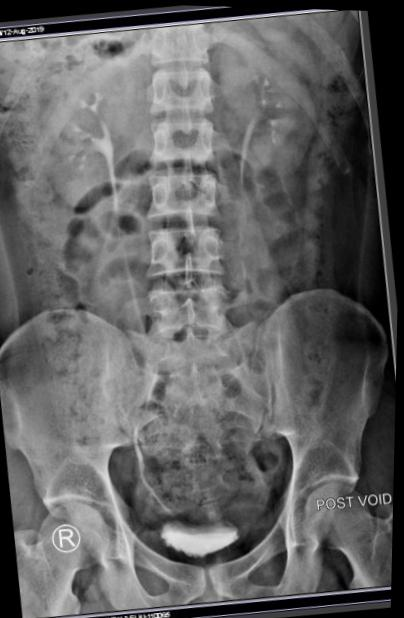bladder: (156, 501, 258, 574)
left kidney: (218, 7, 340, 185)
right kidney: (24, 40, 144, 214)
vertebrae: (151, 46, 224, 113)
